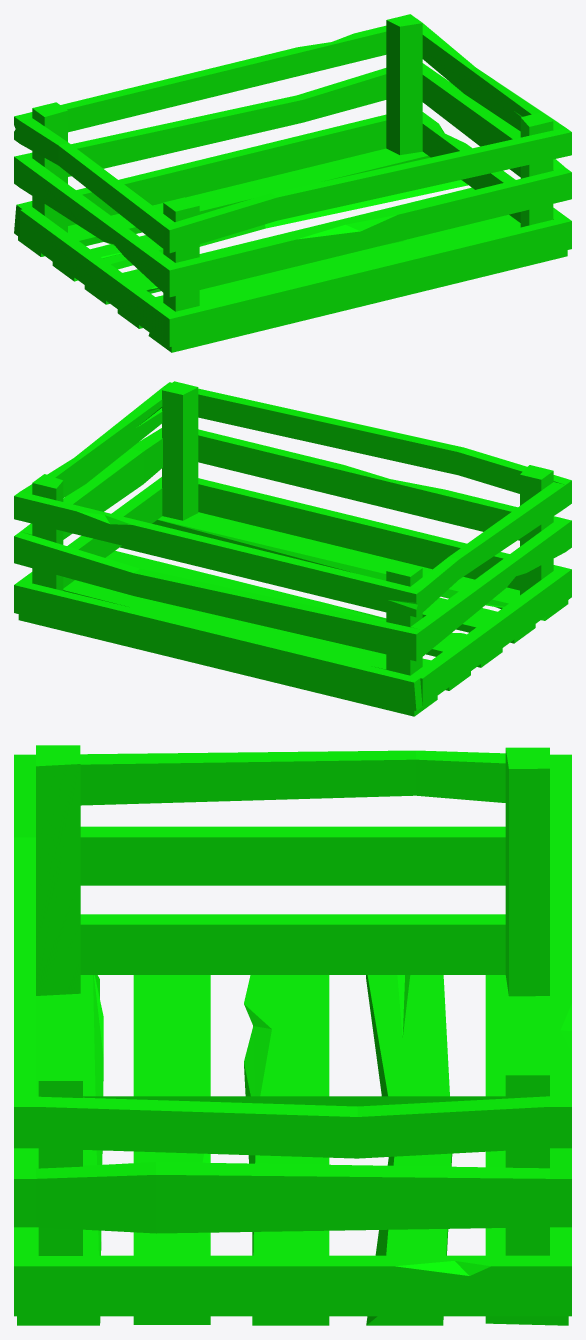
The model's file is SM_Crate_Wood_A_Short_Fantasy.fbx.
3 views of the same model, one above another, from view 1: azimuth 30°, elevation 25°; view 2: azimuth 150°, elevation 25°; view 3: azimuth 270°, elevation 25° (orthographic). The views are drawn at different scales.
Parts seen in each view (by area): view 1: crate-wood-a-short-fantasy; view 2: crate-wood-a-short-fantasy; view 3: crate-wood-a-short-fantasy.
Boxes of the visible parts, <box> form: crate-wood-a-short-fantasy: <box>14,14,571,352</box>; crate-wood-a-short-fantasy: <box>14,381,571,716</box>; crate-wood-a-short-fantasy: <box>14,745,571,1325</box>.
Bounding box in the file's own units: 0.6086 × 0.1952 × 0.4063.
